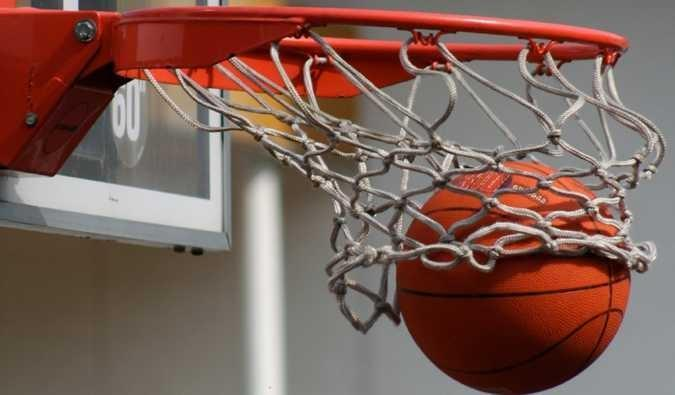ball: (398, 157, 634, 395)
rim: (150, 2, 670, 339)
